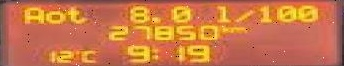-: (146, 15, 160, 21)
0: (274, 4, 295, 24), (296, 4, 317, 24), (168, 3, 190, 21), (195, 24, 217, 40)
1: (255, 3, 271, 22), (171, 43, 182, 62), (46, 48, 54, 63)
2: (106, 24, 127, 40), (54, 48, 71, 61)
5: (174, 24, 193, 40)
7: (130, 24, 149, 40)
8: (125, 3, 146, 21), (152, 23, 173, 38)
9: (125, 43, 149, 62), (184, 43, 206, 61)
X: (62, 5, 87, 24), (19, 5, 43, 22), (212, 2, 231, 23), (231, 8, 252, 21), (44, 8, 63, 22), (78, 48, 95, 62), (149, 46, 160, 58), (228, 26, 244, 32), (220, 23, 228, 31)
